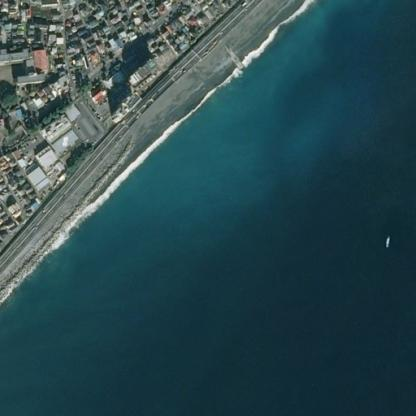ship: (380, 229, 394, 250)
